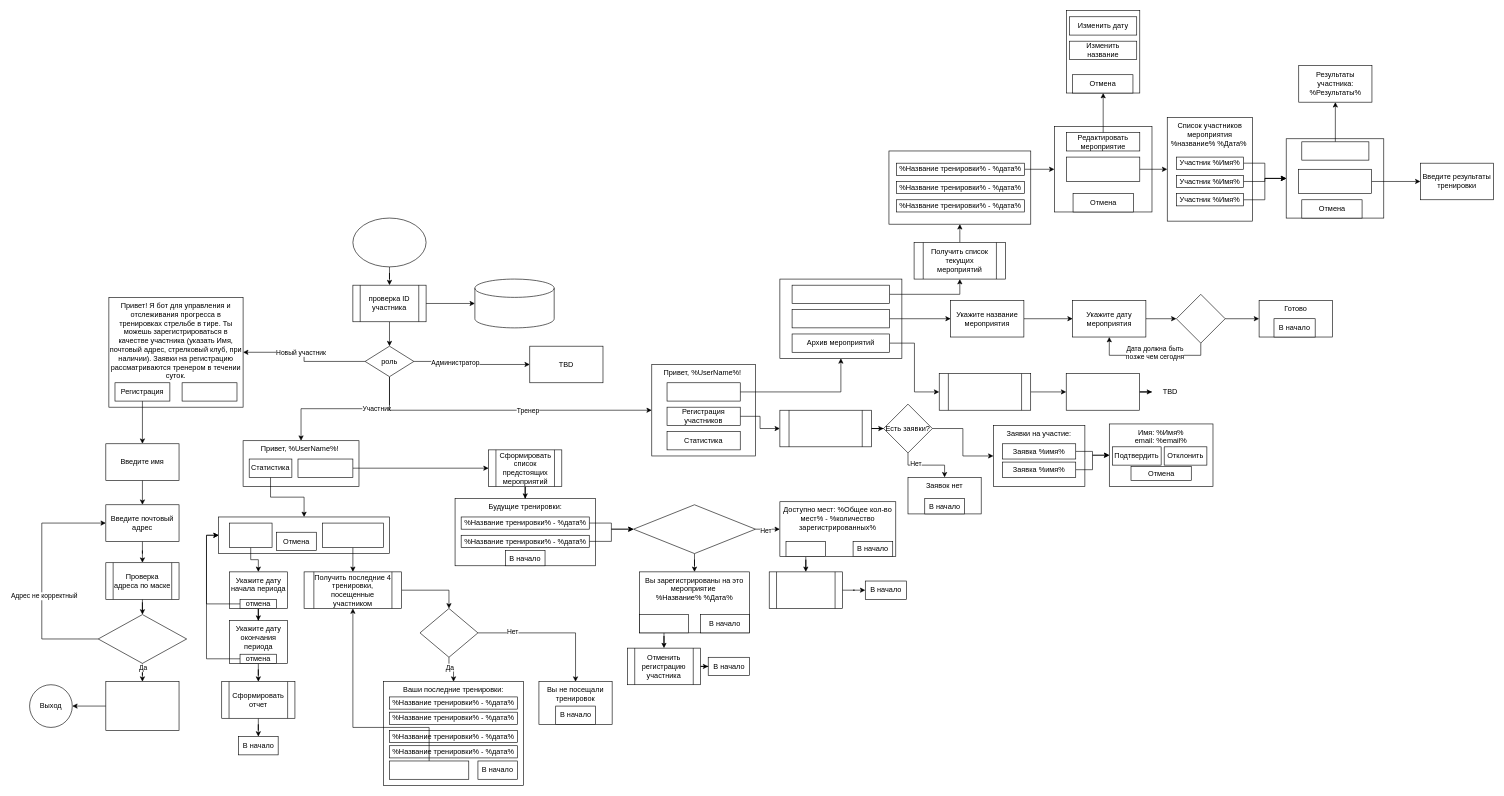
Some shapes in this 1504 by 796 pixel diagram are drawn without their labels. The shapes that lost their labels are listed below. From the top down, each one's centre as x and y in pixels, then its label:
(1103,168): Просмотр участников мероприятия
(1335,150): Просмотр результатов
(1335,181): Внести результаты по участнику
(389,242): Старт чата
(514,303): Участники
(840,294): Просмотр текущих мероприятий
(840,318): Добавить мероприятие
(1200,318): Дата норм?
(209,391): Вернуться
(703,391): Мероприятия
(985,391): Получить список последних 10 мероприятий
(1102,391): Список мероприятий
(825,428): Получить список Заявок на участие
(325,467): Рассписание
(250,534): Статистика за период
(352,534): Статистика за последние стренировки
(694,529): Участник зарегистрирован?
(805,549): Я буду
(805,589): Записать участника на намероприятие
(142,638): Адрес корректный?
(448,632): Есть тренировки?
(663,623): Отменить запись
(142,705): Ваша заявка принята. В течении суток Тренер рассмотрит вашу заявку.
(429,769): Более старые тренировки
